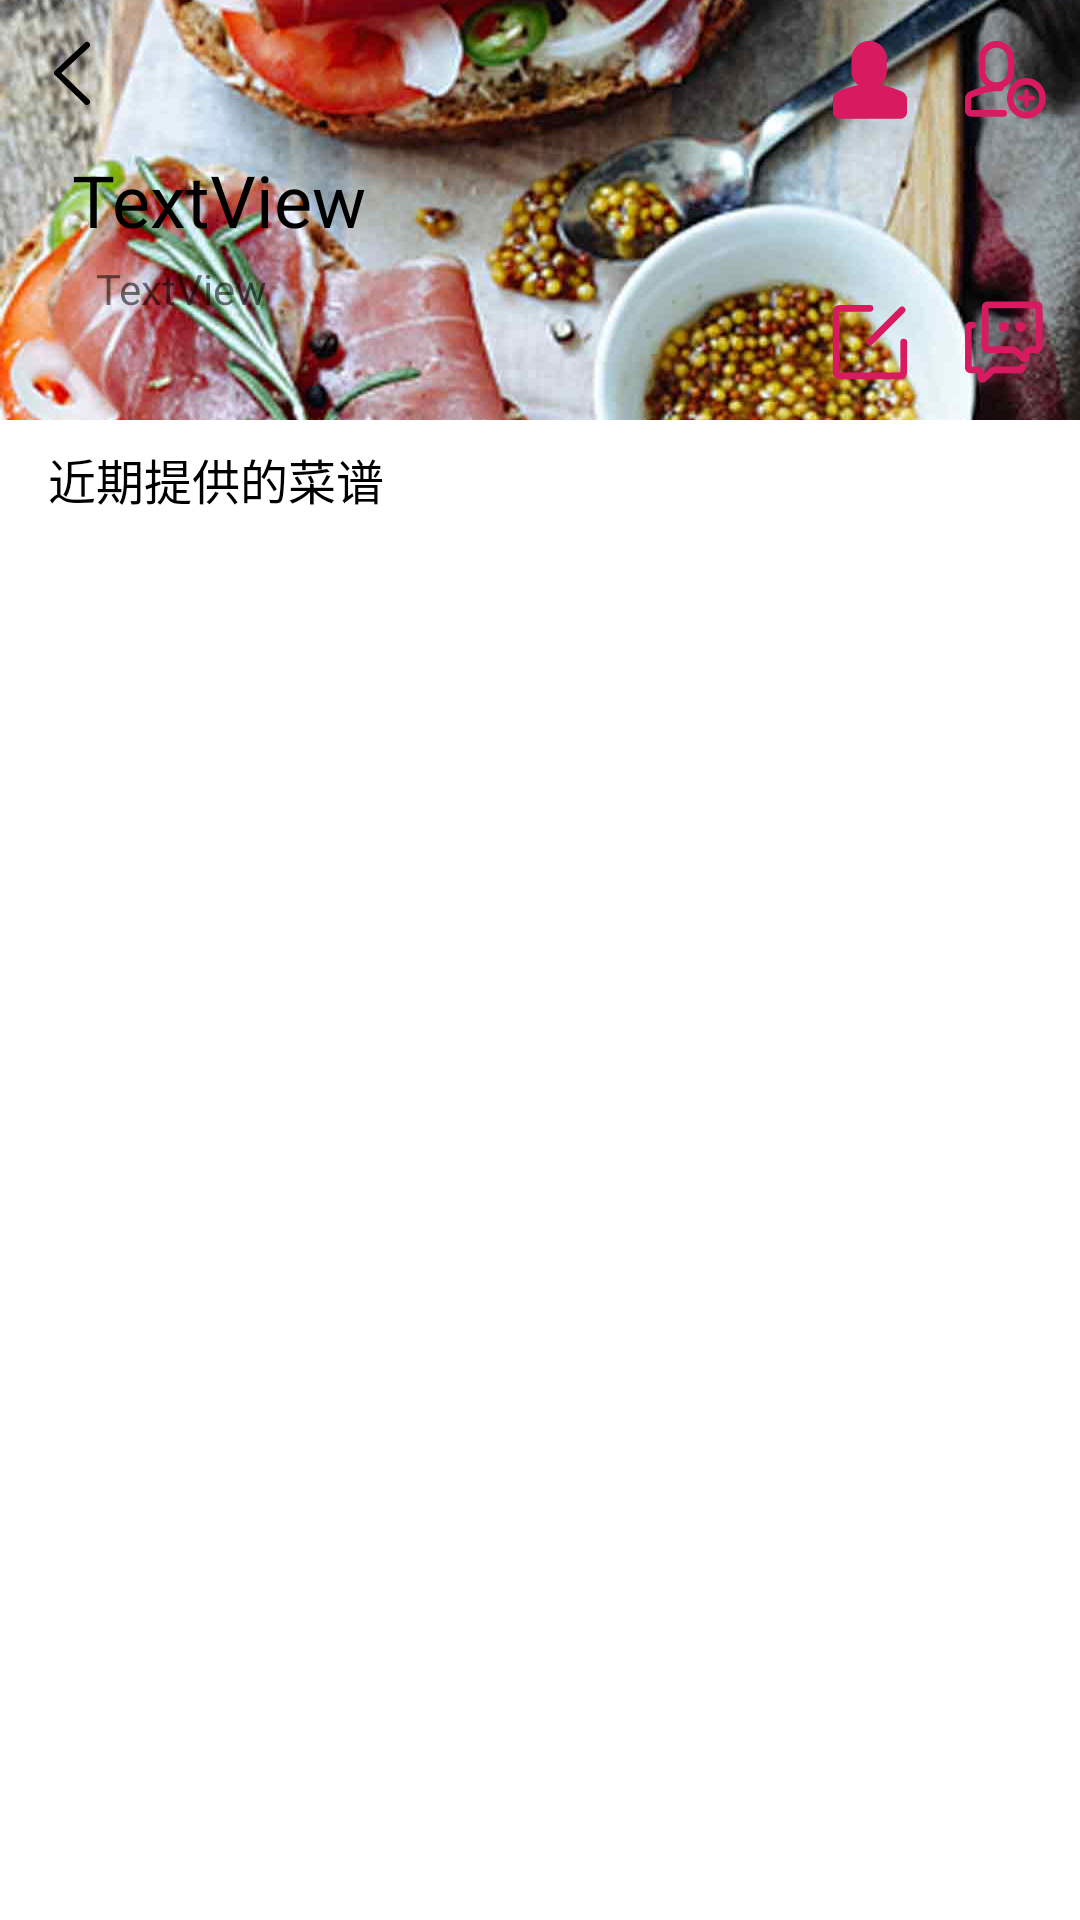

Where to tap for icons on this 1080 × 1920 app screen, as point (x, y):
addpeople: point (1002, 78)
editor: point (870, 342)
interactive: point (1002, 342)
people: point (870, 78)
return: point (72, 72)
